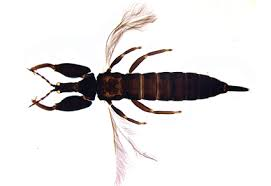Phlaeothripidae: (29, 4, 249, 185)
